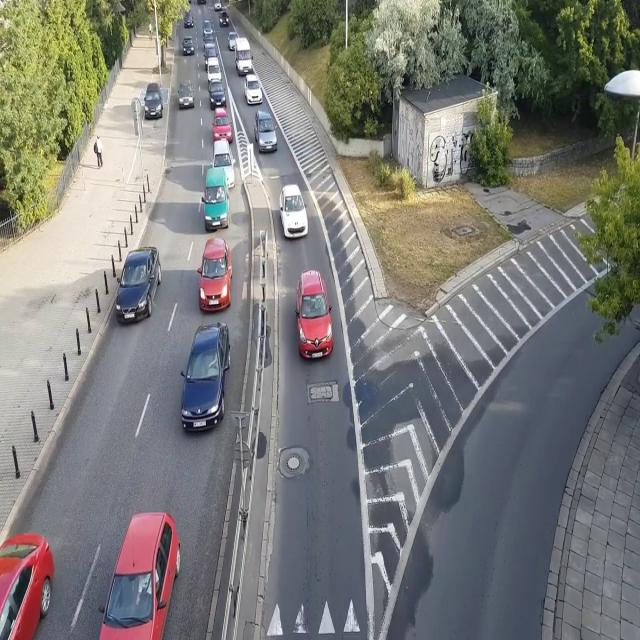car: (95, 510, 182, 640), (0, 530, 55, 639), (178, 322, 232, 432), (115, 243, 162, 324), (294, 268, 334, 361), (198, 235, 232, 311), (278, 183, 310, 241), (210, 138, 236, 190), (211, 108, 234, 144), (144, 82, 164, 120), (242, 73, 264, 107), (208, 78, 227, 107), (178, 78, 195, 110), (204, 43, 218, 71), (181, 34, 196, 54), (227, 32, 239, 50), (218, 9, 230, 27), (183, 12, 194, 31), (201, 19, 213, 35), (203, 34, 215, 46), (212, 0, 223, 11)
van: (202, 168, 230, 232), (254, 108, 278, 154), (235, 36, 253, 72)
